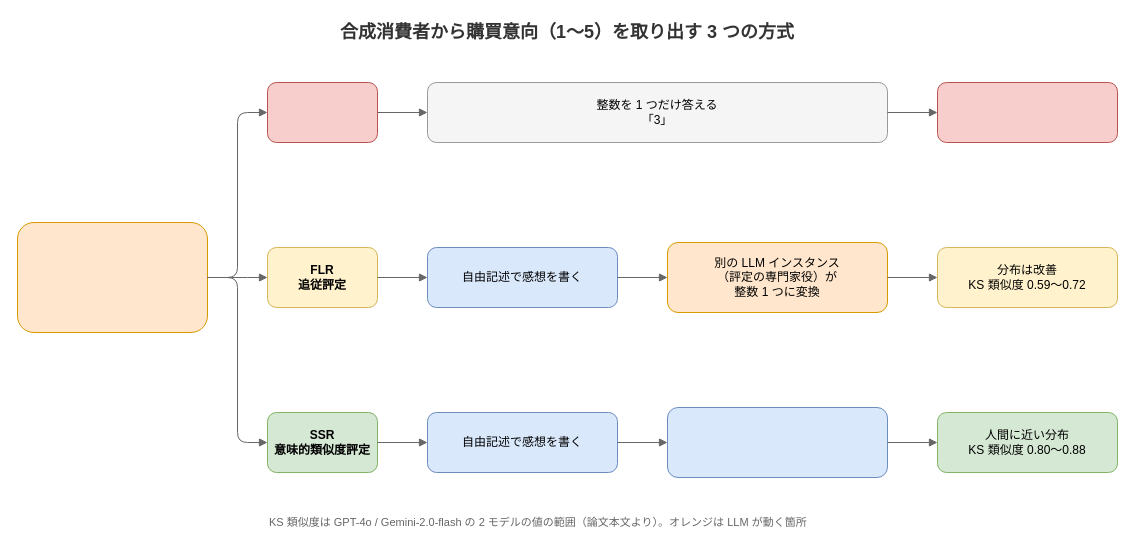
Some shapes in this 1135 by 554 pixel diagram are drawn without their labels. The centre of each missing label's shape, as x and y in pixels:
"DLR 直接評定" belongs at (x=322, y=112).
"LLM（合成消費者） 実在回答者の属性 （年齢・性別・地域・収入） ＋ 製品コンセプト画像" belongs at (x=112, y=277).
"「3」に偏る KS 類似度 0.26〜0.39" belongs at (x=1027, y=112).
"埋め込み → 1〜5 点の 参照文とコサイン類似度 → 確率分布に正規化" belongs at (x=777, y=442).
